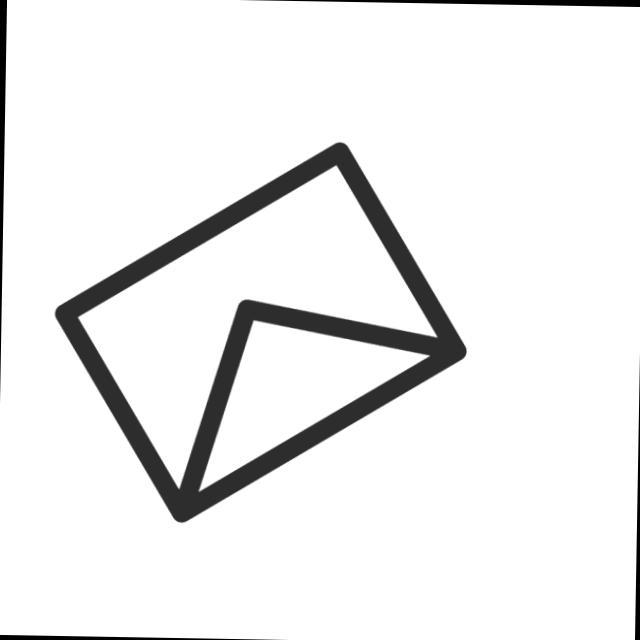letter: (44, 130, 479, 533)
